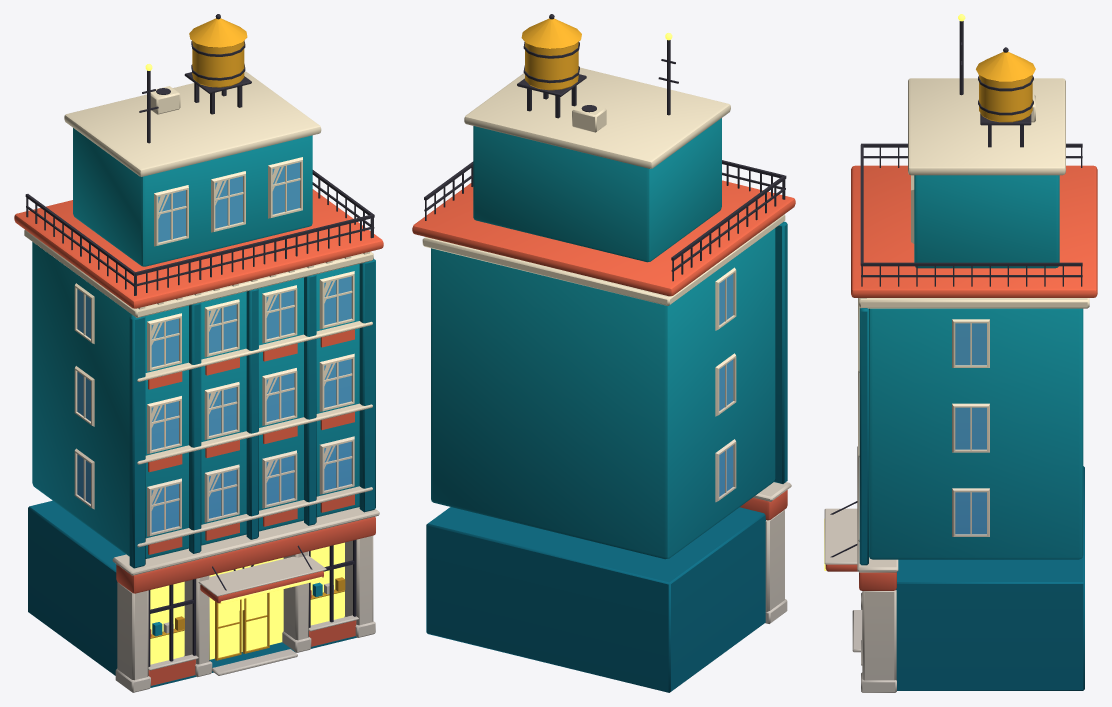
Rendered from tower_a.glb.
3 renders of one model, left to right at view 1: azimuth 30°, elevation 25°; view 2: azimuth 150°, elevation 25°; view 3: azimuth 270°, elevation 25°, orthographic. The views are drawn at different scales.
Parts seen in each view (by area): view 1: tower_a; view 2: tower_a; view 3: tower_a.
Boxes of the visible parts, box(x1,y1,x2,y2) form: tower_a: box(14, 14, 383, 692); tower_a: box(412, 14, 795, 692); tower_a: box(824, 14, 1097, 692).
Size of the model in its own units: 9.4 by 21.04 by 8.64.
